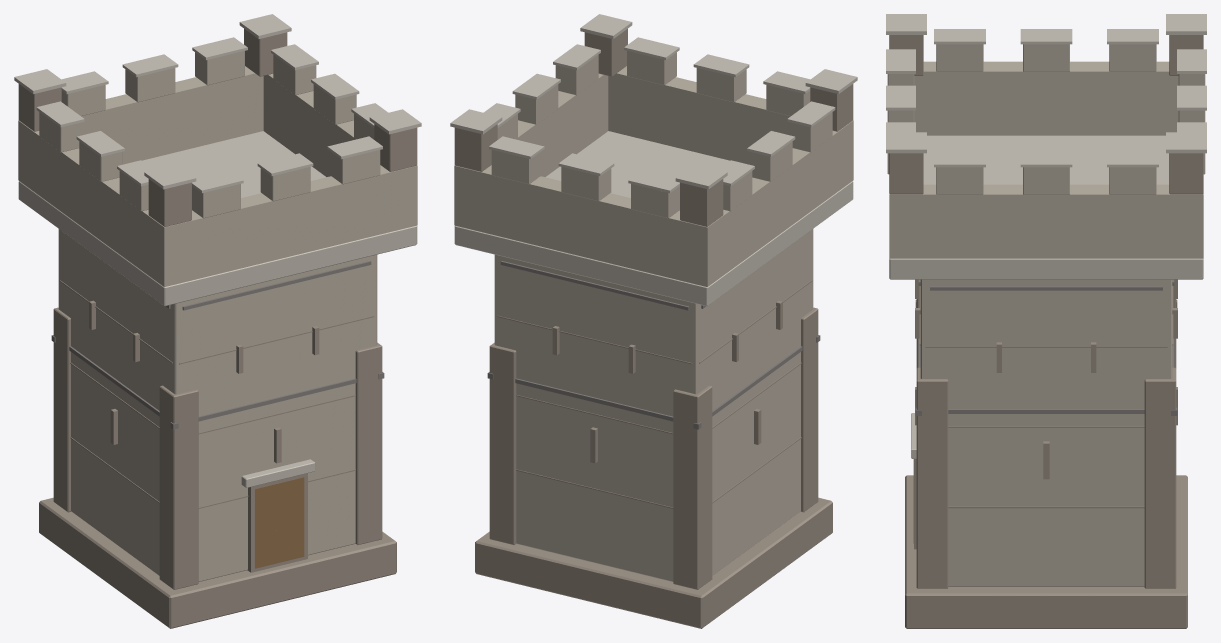
Rendered from Tower.fbx.
3 views of the same model, side by side, from view 1: azimuth 30°, elevation 25°; view 2: azimuth 150°, elevation 25°; view 3: azimuth 270°, elevation 25° (orthographic). The views are drawn at different scales.
Parts seen in each view (by area): view 1: Tower; view 2: Tower; view 3: Tower.
Part boxes in pixels (x1,y1,x2,y2): Tower: (14,14,421,628); Tower: (450,14,857,628); Tower: (886,14,1206,628).
Size of the model in its own units: 2.04 by 3.42 by 2.04.
